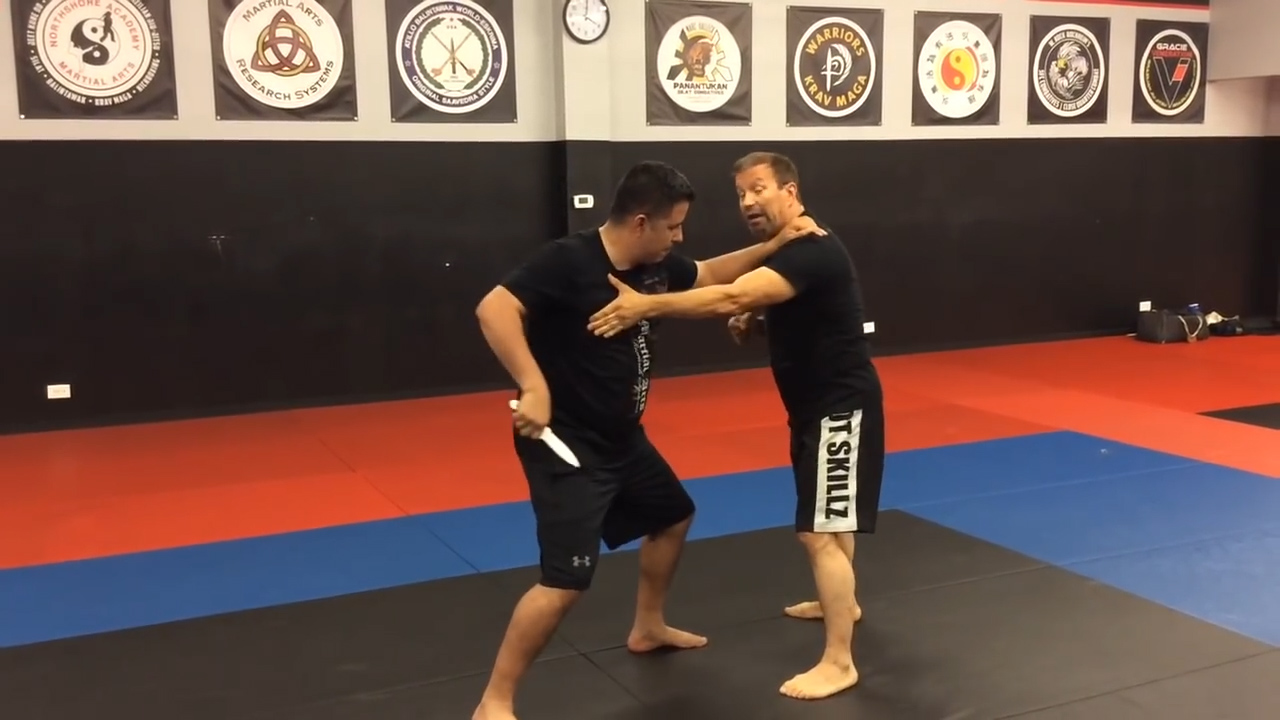knife: (501, 392, 588, 479)
